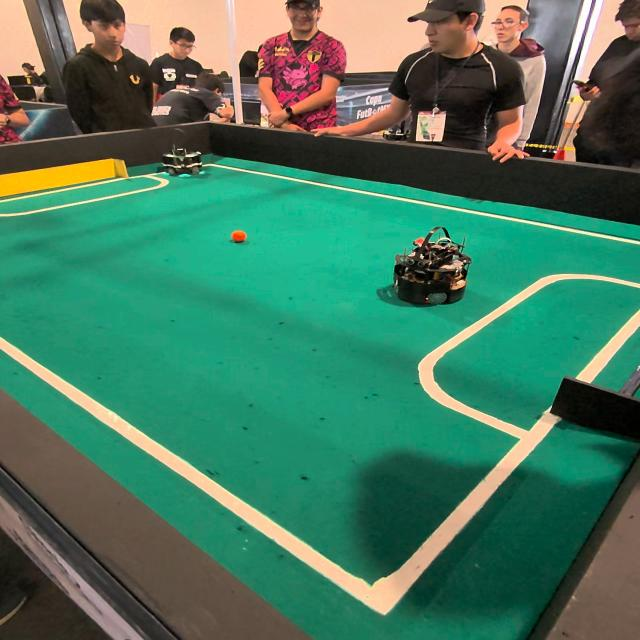Robot: (394, 226, 472, 312), (159, 130, 206, 184)
pelota: (228, 232, 244, 244)
